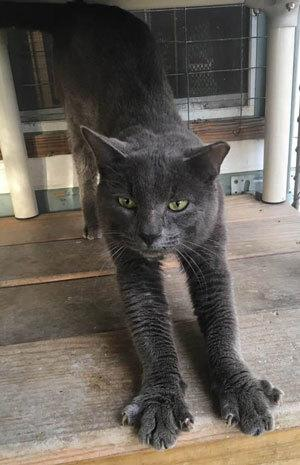rblue: (64, 100, 247, 289)
